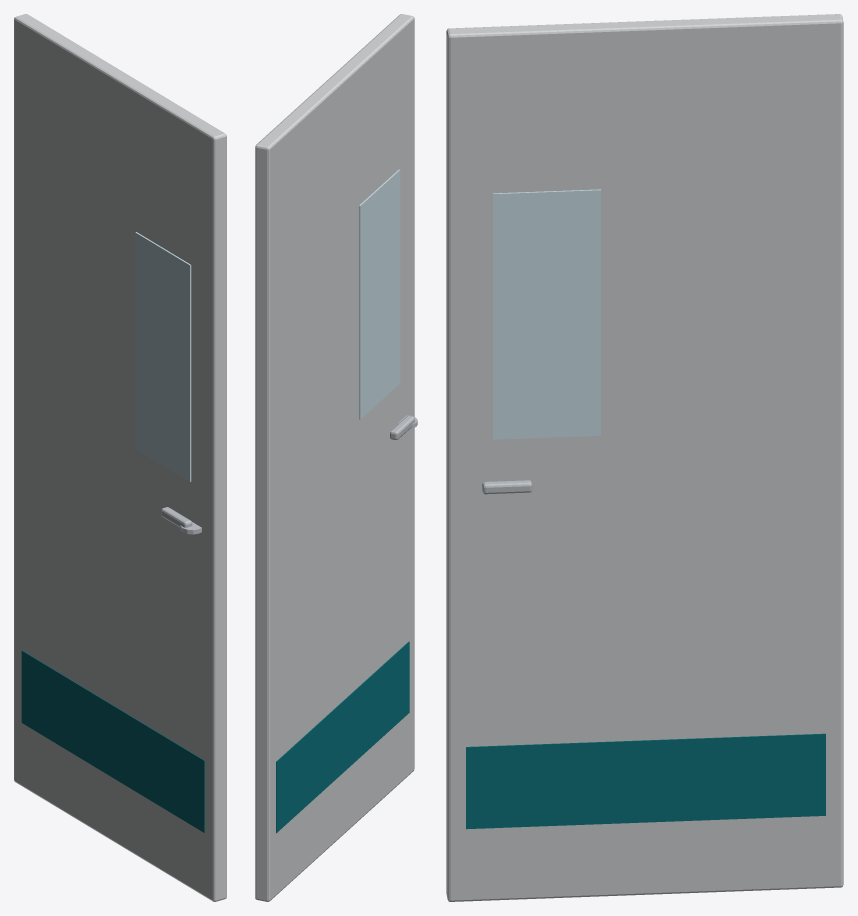
Rendered from puerta.obj.
3 renders of one model, left to right at view 1: azimuth 30°, elevation 25°; view 2: azimuth 150°, elevation 25°; view 3: azimuth 270°, elevation 25°, orthographic. The views are drawn at different scales.
Visible parts, largest first — view 1: pieza_7, pieza_9, pieza_8; view 2: pieza_7, pieza_9, pieza_8; view 3: pieza_7, pieza_9, pieza_8.
Part boxes in pixels (x1,y1,x2,y2): pieza_7: (14,14,226,901); pieza_9: (21,650,204,832); pieza_8: (135,232,191,481); pieza_7: (255,14,414,901); pieza_9: (276,641,409,833); pieza_8: (359,169,400,419); pieza_7: (446,14,843,901); pieza_9: (466,733,825,829); pieza_8: (493,189,600,439).
Size of the model in its own units: 0.1468 by 2.12 by 0.8792.
